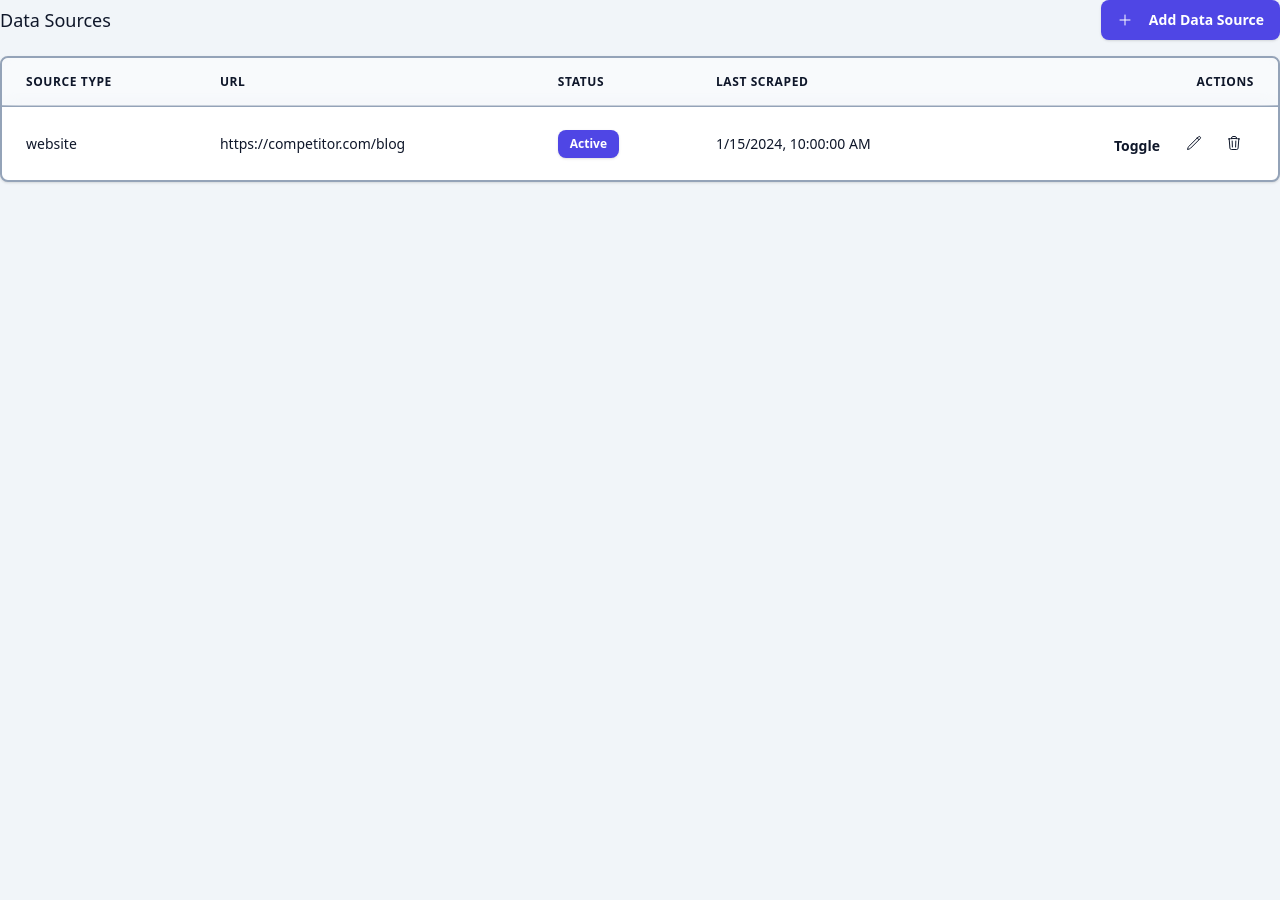
Test: DataSourcesManager Component › should open Edit Data Source modal when edit button is clicked
The image size is (1280, 900).
Expected: the text "website" is shown, left=2, top=106, right=196, bottom=180
Click edit button
Click the button named "edit" at (1194, 143), box left=1174, top=123, right=1214, bottom=163
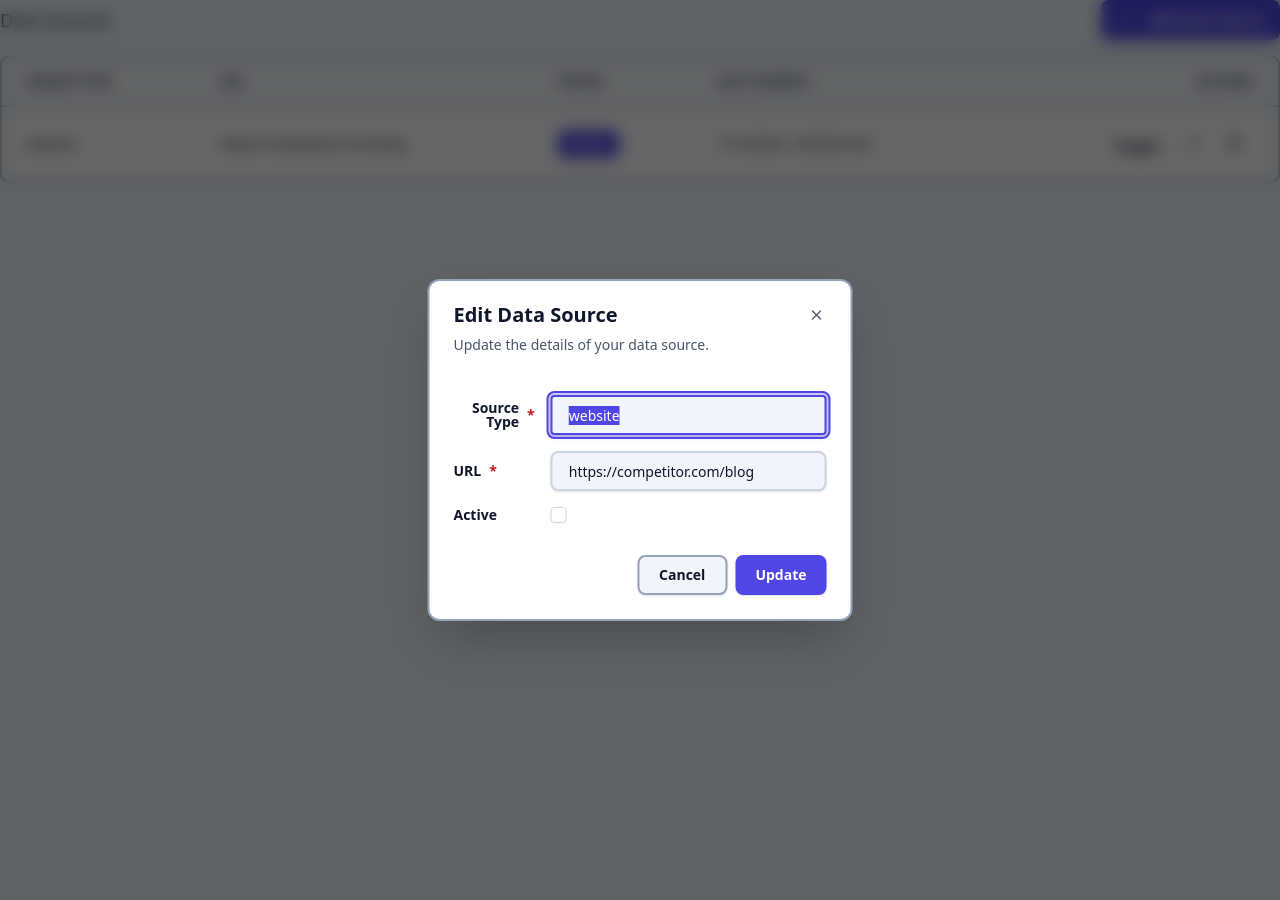
Now the dialog is shown, box left=428, top=279, right=852, bottom=621
Now the field showing "website" is shown, box left=551, top=395, right=827, bottom=435
Now the field showing "https://competitor.com/blog" is shown, box left=551, top=451, right=827, bottom=491
